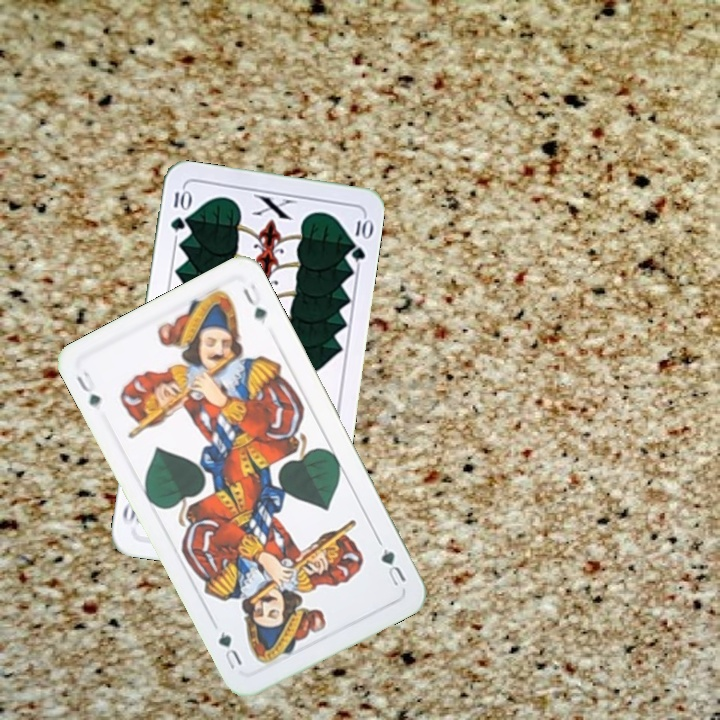G10: (166, 185, 191, 234)
GU: (377, 544, 409, 589), (72, 366, 104, 411)
